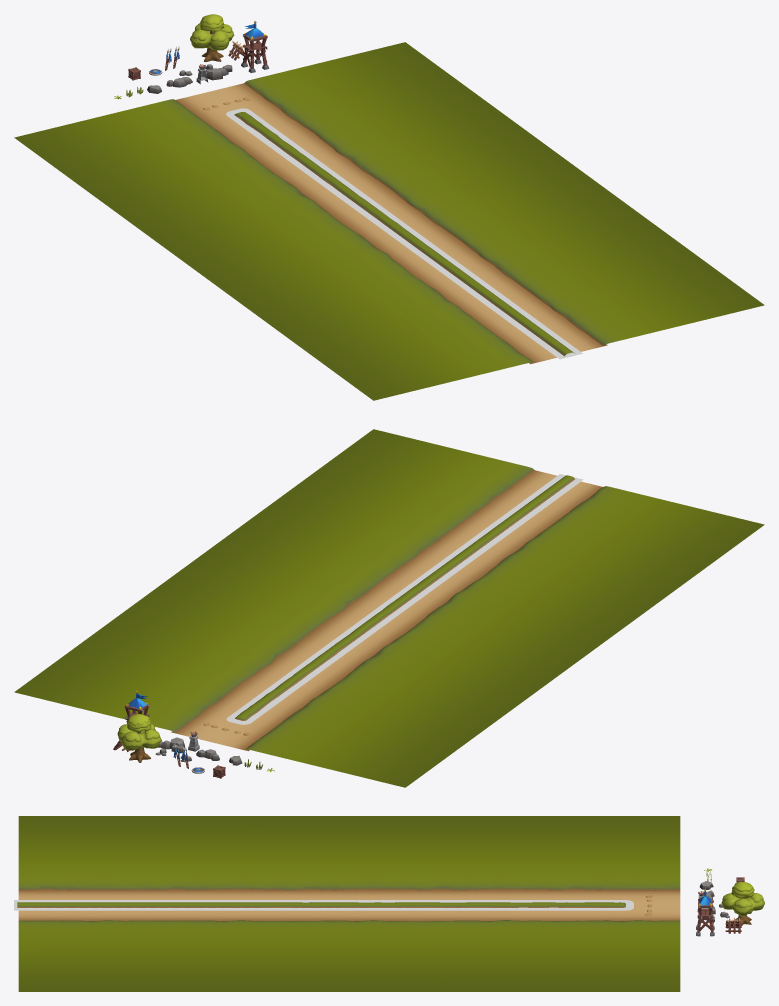
Rendered from ENV_01.fbx.
3 renders of one model, top to bottom at view 1: azimuth 30°, elevation 25°; view 2: azimuth 150°, elevation 25°; view 3: azimuth 270°, elevation 25°, orthographic. The views are drawn at different scales.
Parts seen in each view (by area): view 1: side_left, side_right, side_left_phu, side_right_phu, road, mid_shadow, mid, cay1, Tower; view 2: side_left, side_right, side_left_phu, side_right_phu, road, mid_shadow, mid, cay1; view 3: side_right, side_left, side_left_phu, side_right_phu, road, mid_shadow, mid, cay1, Tower.
Boxes of the visible parts, x1,y1,x2,y2 form: side_left: (244, 61, 687, 346); side_right: (92, 99, 534, 381); side_left_phu: (328, 42, 764, 323); side_right_phu: (14, 118, 450, 400); road: (176, 83, 607, 364); mid_shadow: (226, 108, 582, 359); mid: (234, 112, 574, 356); cay1: (190, 14, 234, 61); Tower: (241, 20, 269, 72); side_left: (92, 448, 534, 733); side_right: (245, 486, 686, 768); side_left_phu: (14, 429, 450, 711); side_right_phu: (328, 505, 764, 787); road: (171, 470, 602, 751); mid_shadow: (226, 474, 583, 724); mid: (235, 475, 574, 720); cay1: (117, 713, 161, 762); side_right: (18, 851, 680, 890); side_left: (18, 920, 680, 956); side_left_phu: (18, 957, 680, 991); side_right_phu: (18, 816, 680, 850); road: (18, 889, 680, 921); mid_shadow: (14, 900, 633, 910); mid: (17, 902, 625, 907); cay1: (721, 881, 764, 926); Tower: (696, 887, 714, 936).
Bounding box in the file's own units: 78.55 × 9.06 × 142.
